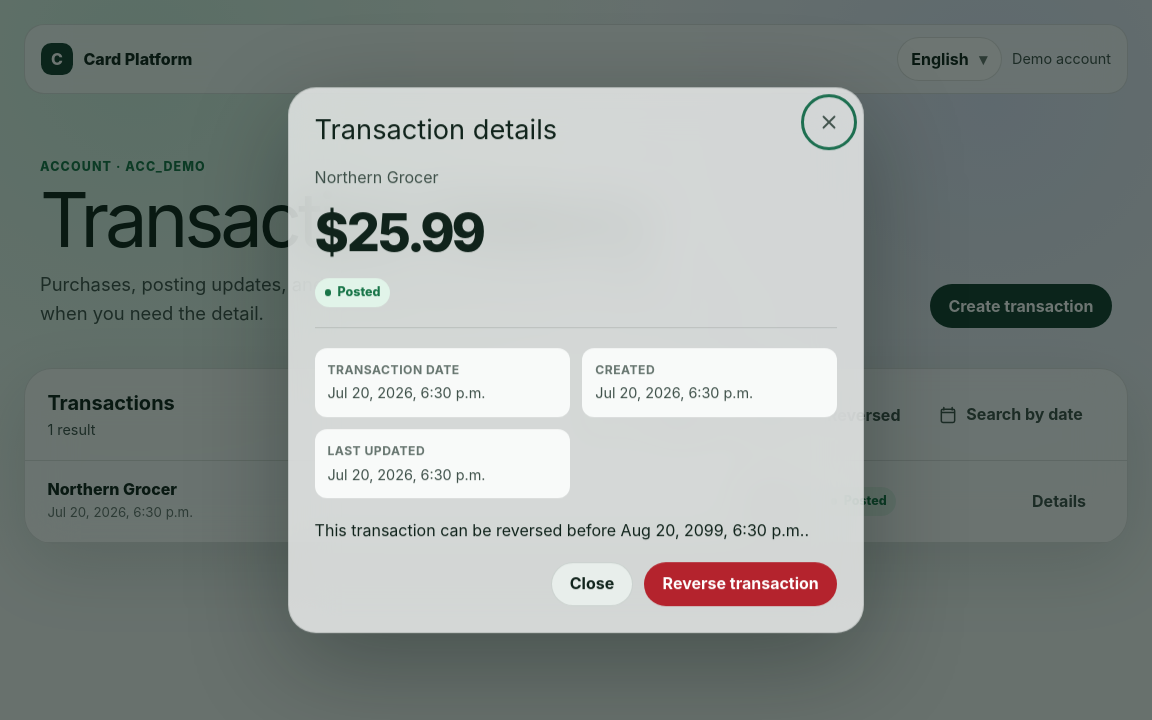
Test: App › opens an AlertDialog above Detail and one Escape closes only confirmation
Click the button "Reverse transaction": (741, 584) x1=644 y1=562 x2=837 y2=606
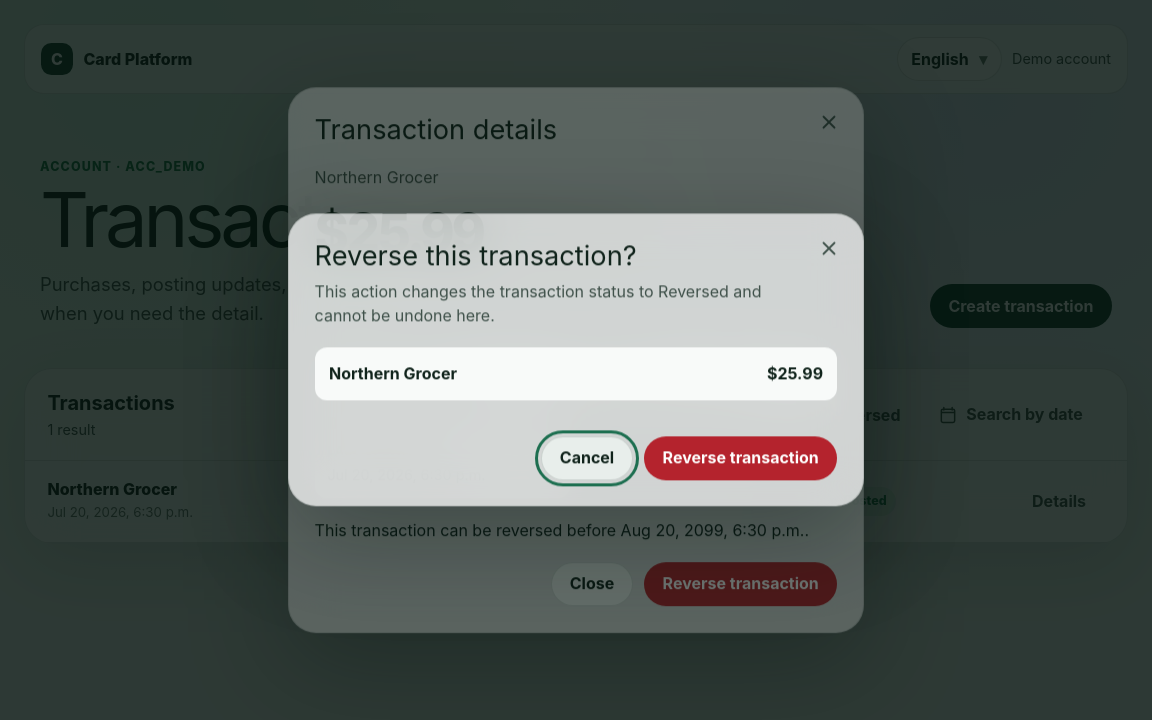
Now the dialog "Reverse this transaction?" is shown, box x1=288 y1=213 x2=864 y2=507
Press Escape
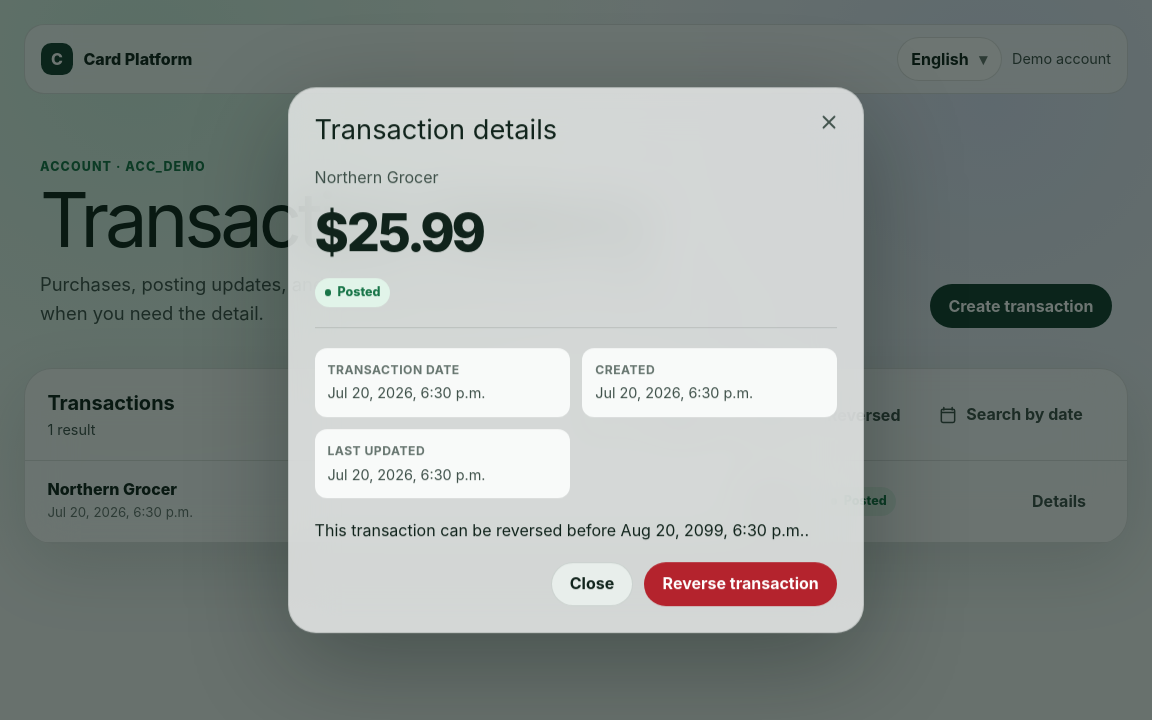
Expected: the dialog "Transaction details" is shown, x1=288 y1=87 x2=864 y2=633
Now the heading "Reverse this transaction?" is gone
